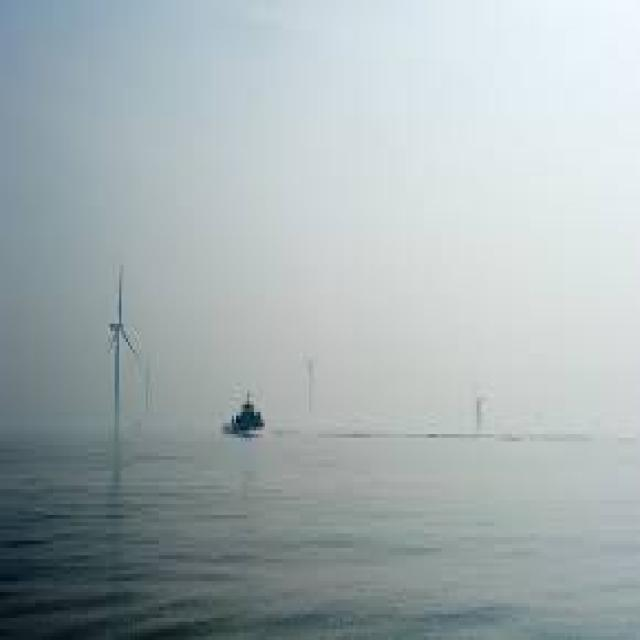fishing boat: (219, 380, 272, 434)
